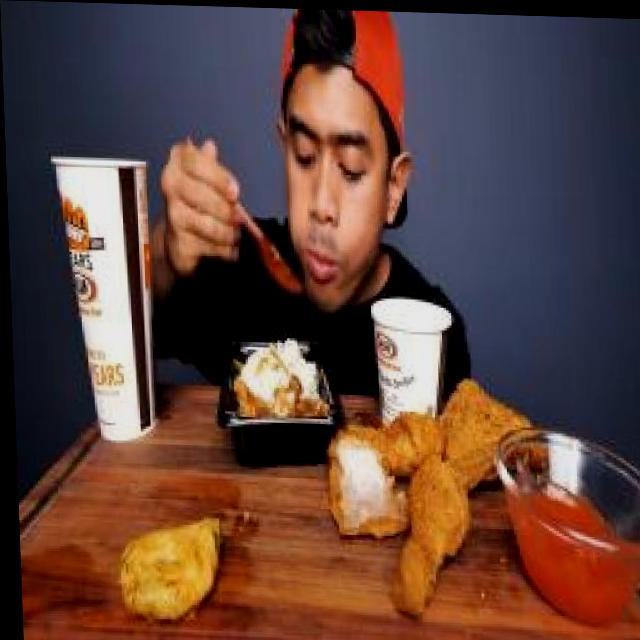AW cola: (39, 131, 163, 461)
black pepper rice bowl: (226, 303, 328, 460)
crispy corn: (368, 285, 470, 436)
fried chicken: (320, 362, 535, 605)
perkedel: (99, 492, 228, 640)
